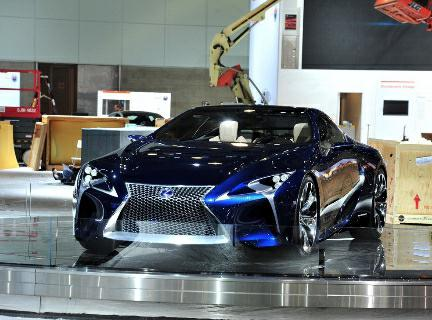雷克萨斯-LF-Gh: (69, 100, 395, 247)
